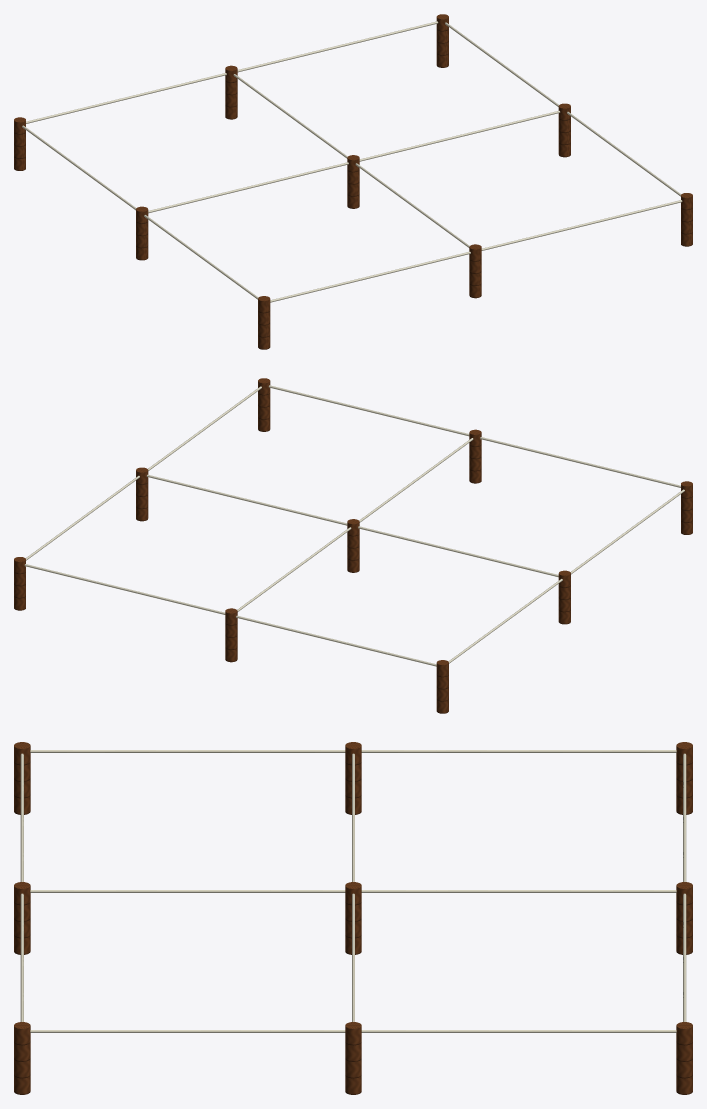
The model's file is prehistoric-expedition-sites-excavation-grid-da64856b__26097.glb.
The picture shows the model from 3 angles, top to bottom: view 1: azimuth 30°, elevation 25°; view 2: azimuth 150°, elevation 25°; view 3: azimuth 270°, elevation 25°; orthographic projection. The views are drawn at different scales.
Parts seen in each view (by area): view 1: excavation-grid; view 2: excavation-grid; view 3: excavation-grid.
Boxes of the visible parts, x1,y1,x2,y2 form: excavation-grid: [14, 14, 692, 349]; excavation-grid: [14, 378, 692, 713]; excavation-grid: [14, 742, 692, 1094].
Size of the model in its own units: 2.05 by 0.22 by 2.05.
Materials: 2 (1 with a texture image).
